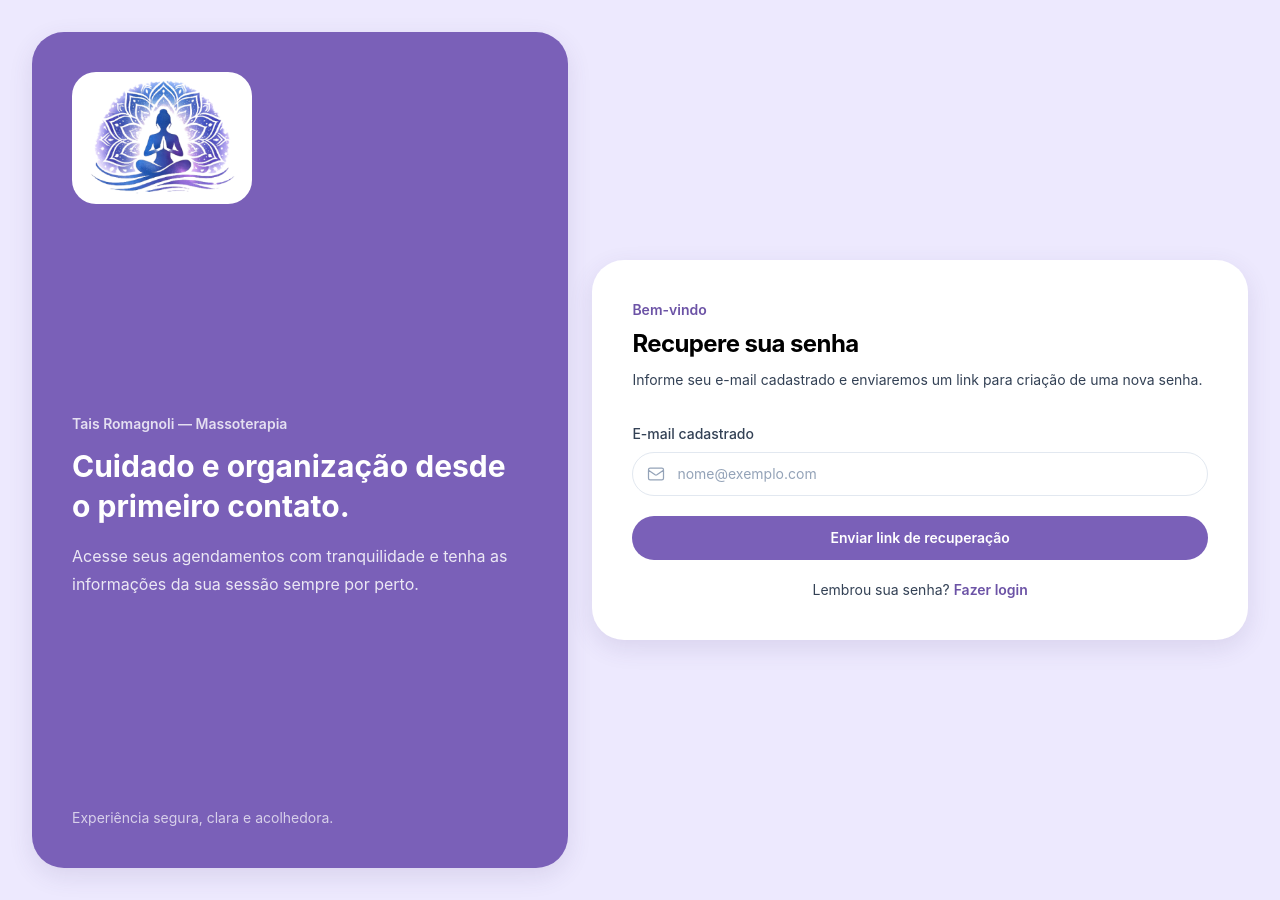
ForgotPasswordPage › exibe erro de validacao ao submeter com formulario vazio
Step 1. Click the button "Enviar link de recuperação" → (920, 538), box [632, 516, 1208, 560]
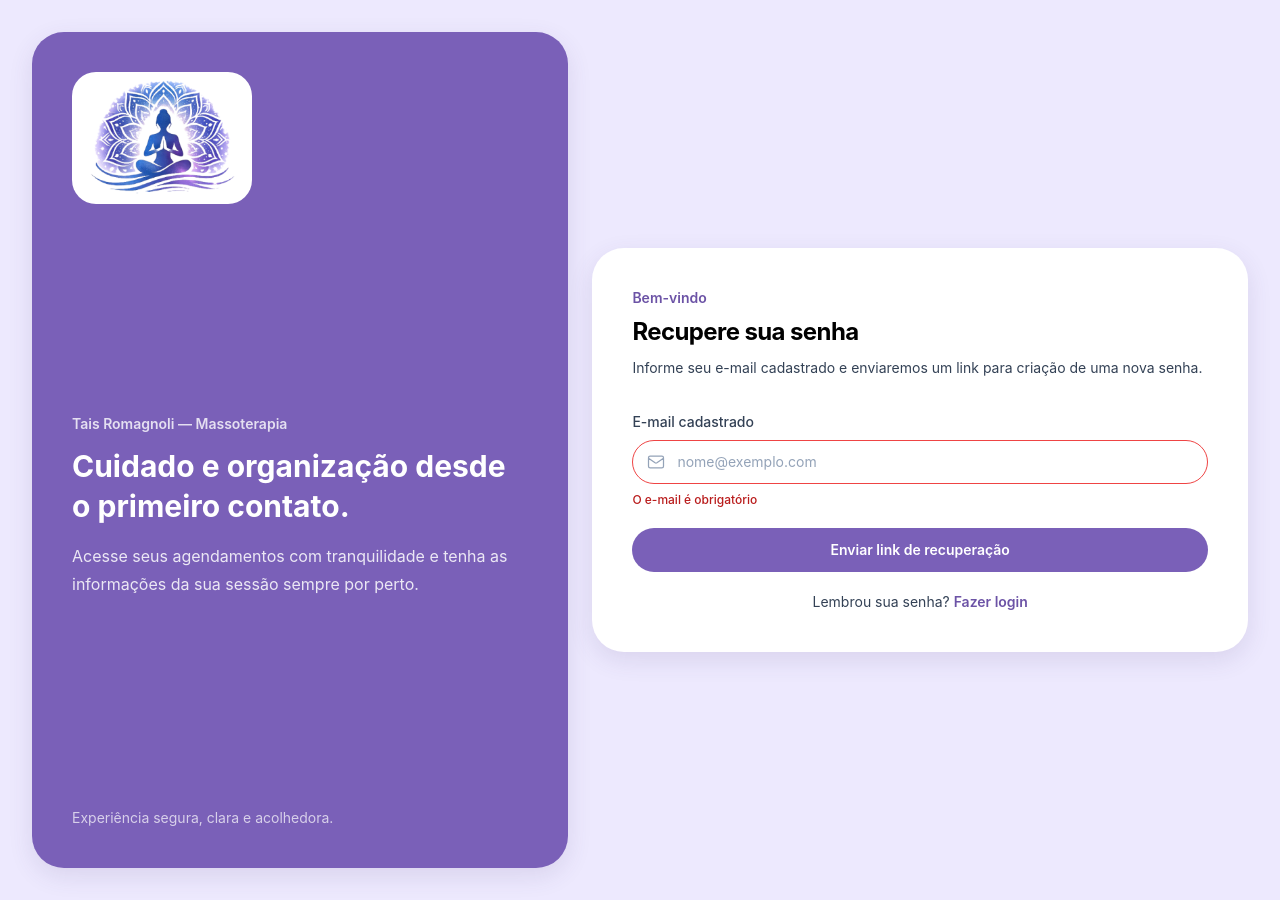
Expected: the text "O e-mail é obrigatório" is shown, [632, 492, 757, 507]
